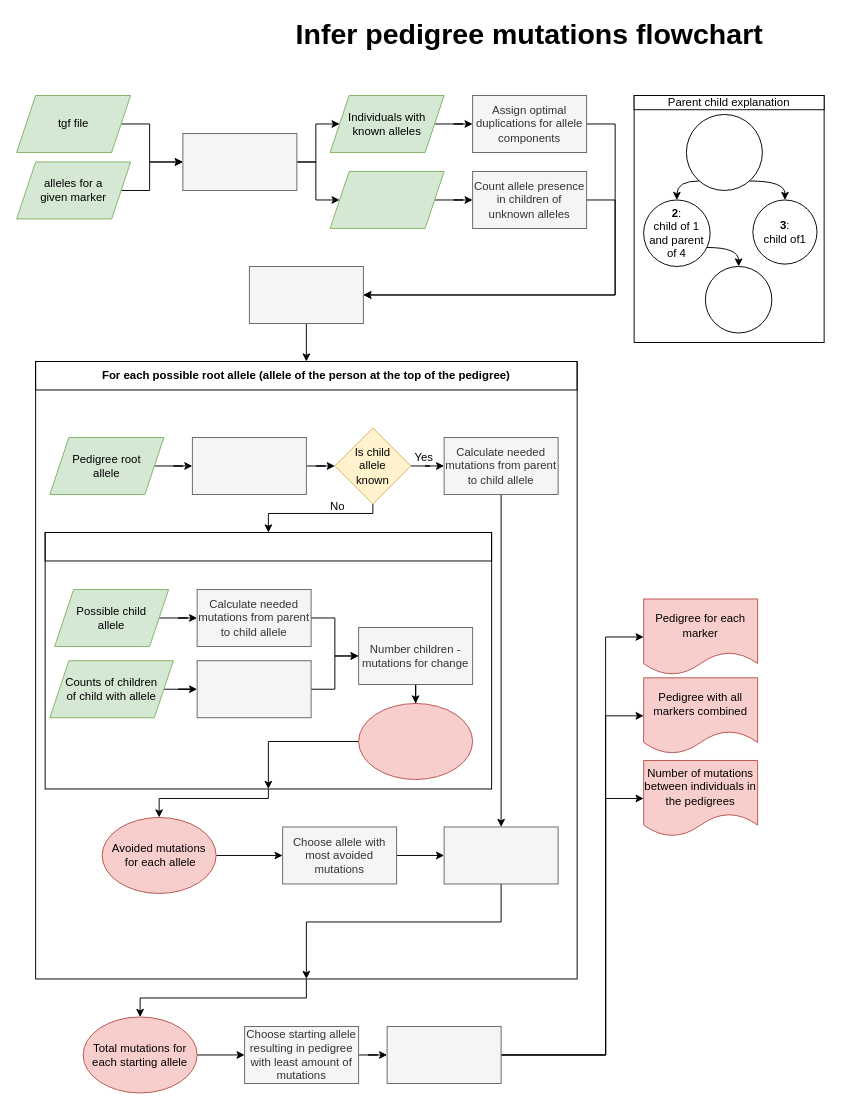
Image size: 841x1110. Some labels were removed from this diagram. Each missing label, with the box of its shape:
1 : parent of 2 and 3: (685, 114, 762, 190)
4 : child of 2: (704, 266, 772, 333)
Add to total mutations: (443, 826, 558, 884)
Draw the pedigree: (386, 1026, 501, 1083)
Estimate unknown alleles: (248, 266, 363, 323)
For each possible allele ( the children of this allele): (44, 532, 492, 561)
Get children: (191, 437, 306, 494)
Get number of children of child that have the allele: (196, 660, 311, 718)
Get samples matching between the two: (182, 133, 297, 190)
Individuals with unknown alleles: (329, 171, 444, 228)
Mutations avoided choosing this allele: (358, 703, 473, 779)
